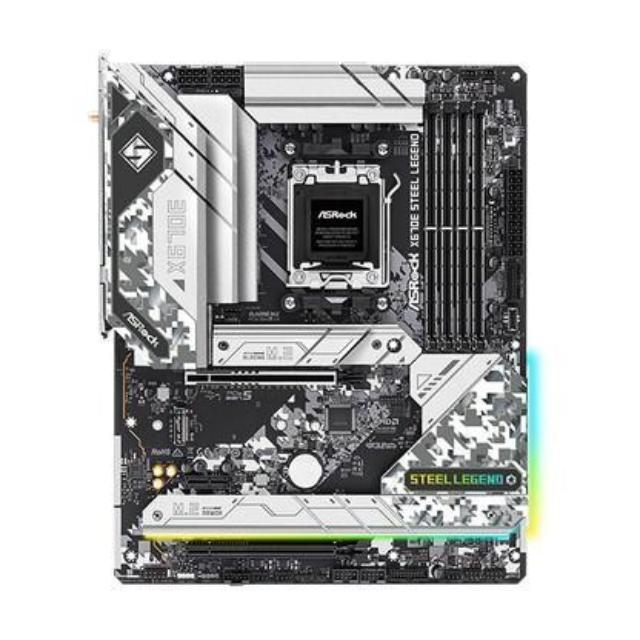Mainboard: (87, 49, 535, 598)
